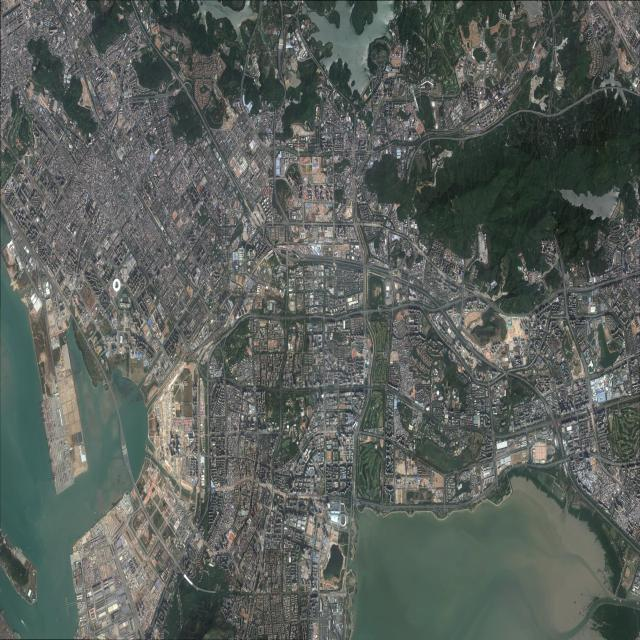ship: (16, 631, 21, 639), (23, 506, 26, 510), (21, 619, 23, 623), (43, 519, 44, 522)
storage-tank: (81, 619, 83, 621), (81, 594, 82, 597), (84, 615, 85, 617), (83, 617, 84, 619), (162, 573, 163, 575), (161, 575, 162, 577), (163, 574, 164, 576), (164, 573, 165, 575), (78, 595, 79, 597), (80, 595, 81, 597), (77, 598, 78, 600), (80, 597, 81, 599), (81, 597, 82, 599), (81, 617, 82, 619), (80, 620, 81, 622), (162, 576, 163, 577), (83, 616, 84, 617), (84, 617, 85, 618), (79, 611, 80, 612), (79, 612, 80, 613), (163, 572, 164, 573), (162, 578, 163, 579), (163, 579, 164, 580), (84, 604, 85, 605), (81, 604, 82, 605), (77, 596, 78, 597), (80, 618, 81, 619), (83, 602, 84, 603), (84, 602, 85, 603), (85, 607, 85, 608), (79, 611, 79, 612), (79, 612, 79, 614), (162, 574, 162, 576), (162, 577, 162, 578), (85, 605, 85, 607), (82, 606, 82, 607), (79, 598, 79, 599), (83, 602, 83, 603)
